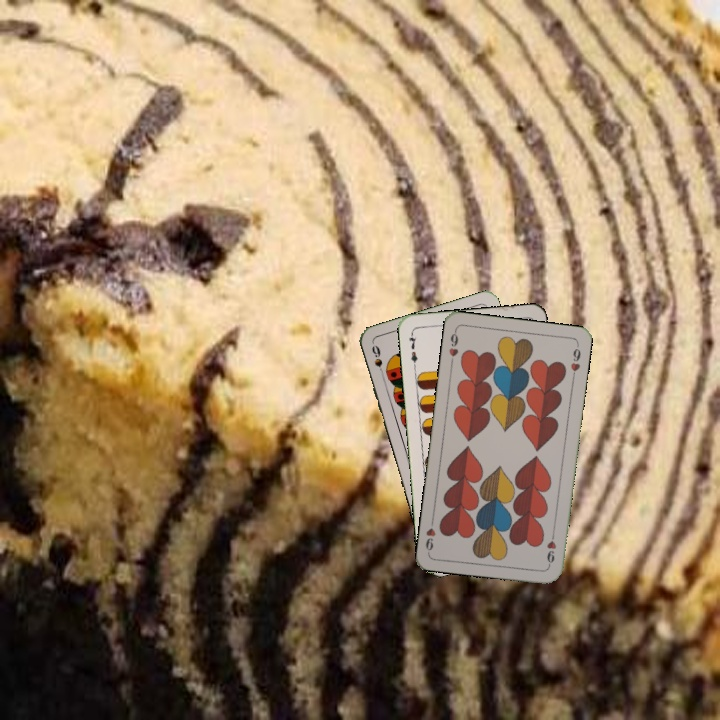E7: (405, 329, 420, 369)
H9: (445, 326, 461, 367), (543, 528, 559, 569)
S9: (367, 341, 387, 380)
